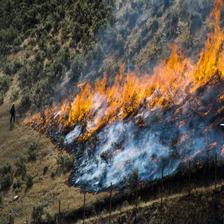fire: (21, 40, 220, 128)
